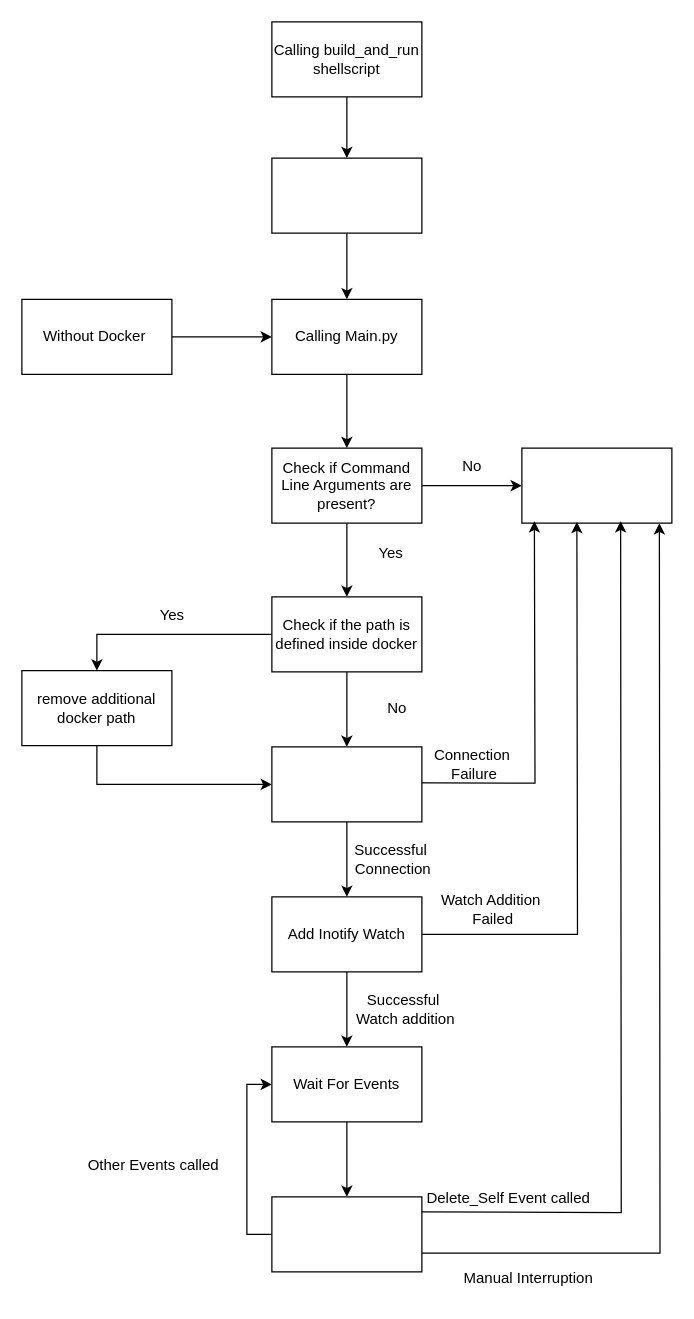
This 694x1319 diagram has some shape labels left out. Here are the shapes that lost their labels. From the top down, the centre of each, then its label:
the point at 346,195: Create and docker container with necessary packages
the point at 596,485: Exit Program
the point at 346,784: Initiate Mqtt Connection
the point at 346,1234: On Event publish event type, timestamp are published
